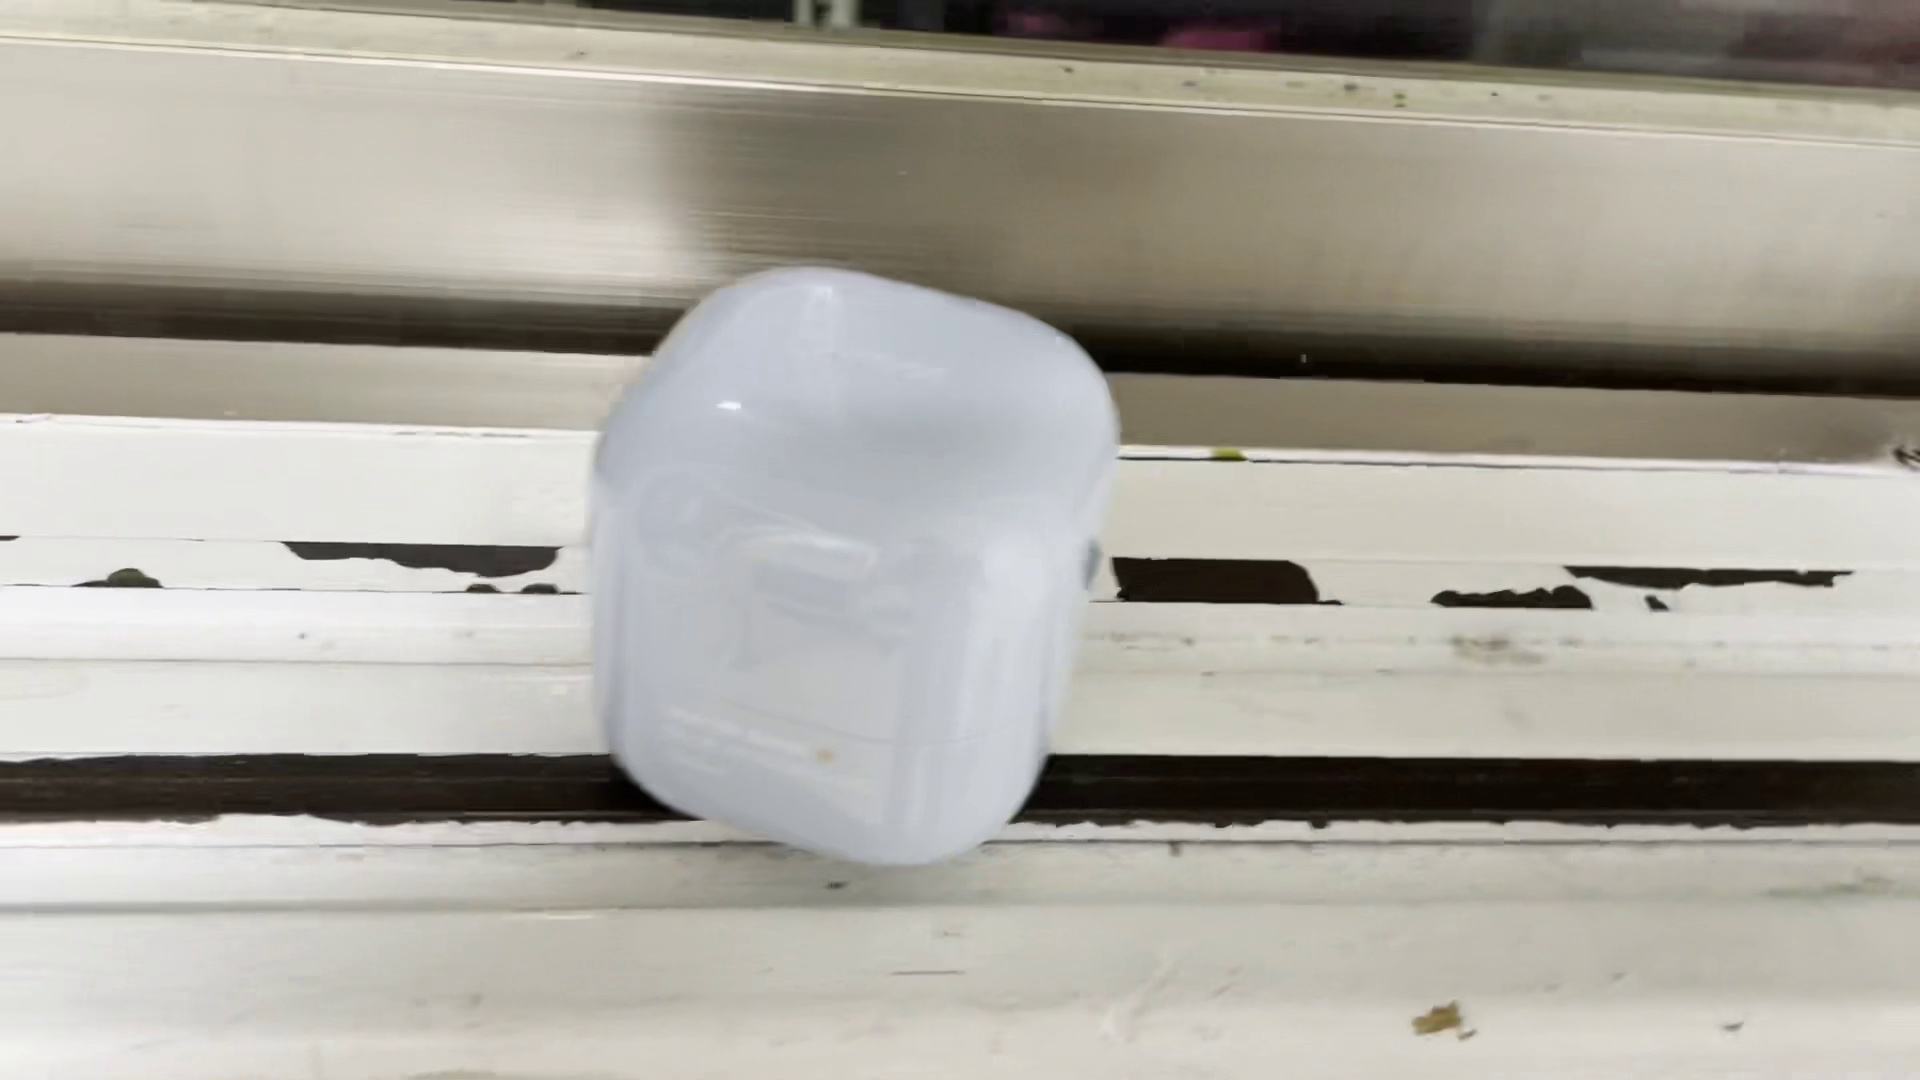cream: (585, 264, 1112, 868)
